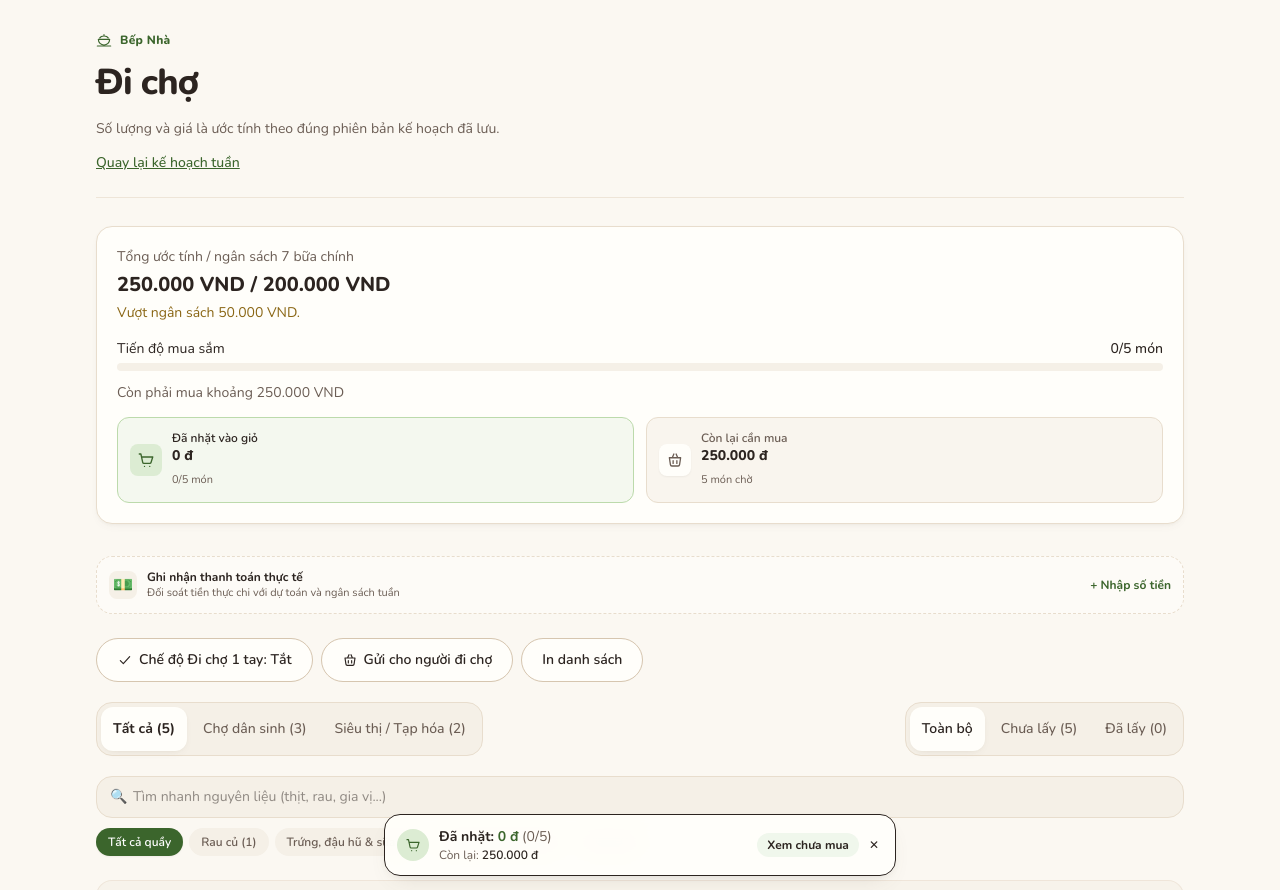
Test: ShoppingListPage › says where the list went when it could only be copied
The image size is (1280, 890).
Click the button "Gửi cho người đi chợ": (417, 660) [321,638,513,682]
(page scrolled)
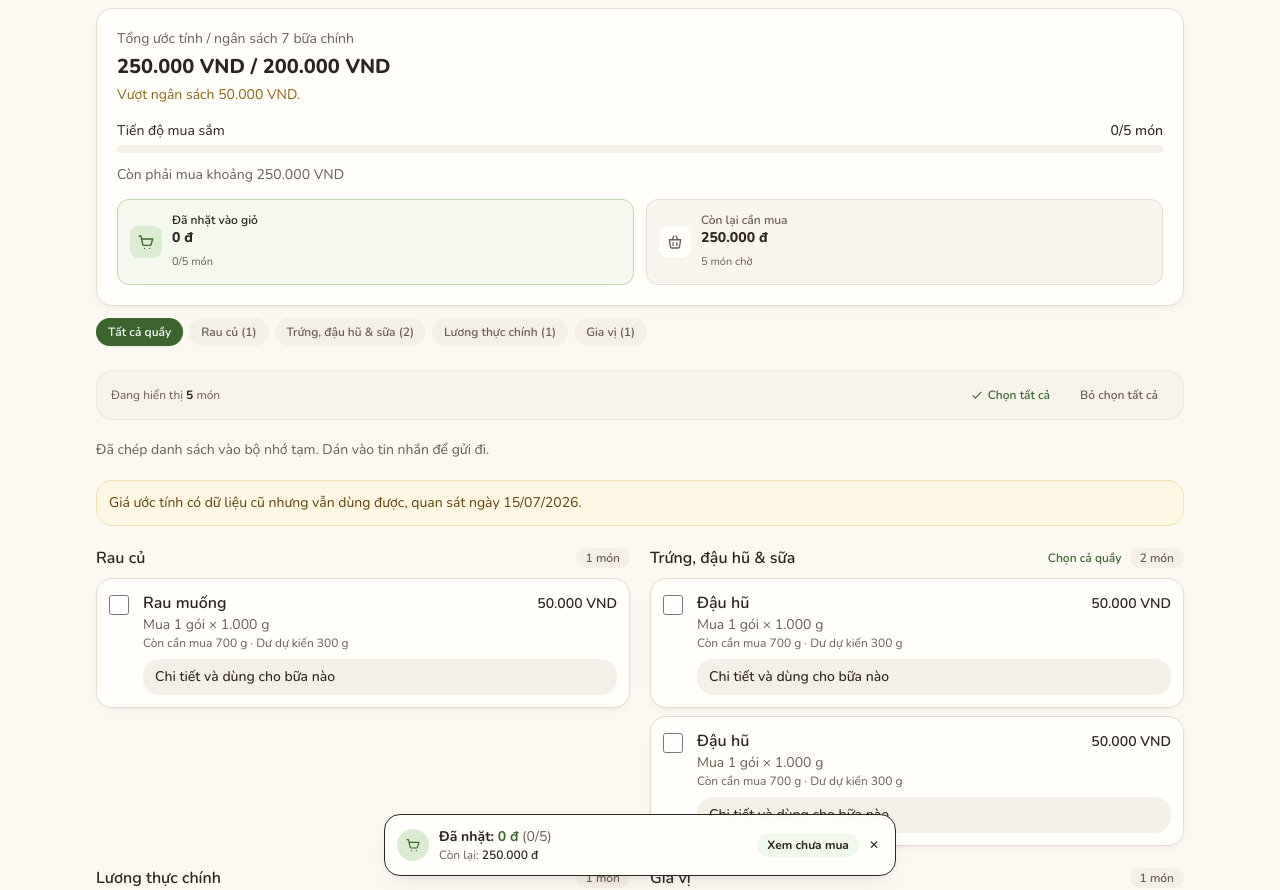
expect the text "Đã chép danh sách vào bộ nhớ tạm. Dán vào tin nhắn để gửi đi." is shown: met, box [96,440,489,459]
